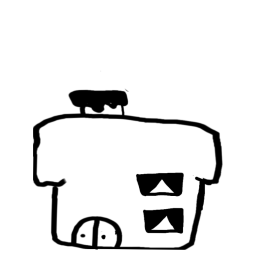bottom_placed_house: (3, 1, 260, 260)
chimney: (55, 84, 145, 129)
door: (71, 203, 128, 255)
open_window: (129, 160, 191, 204), (137, 205, 188, 240)
single_line_roof: (25, 111, 229, 191)
wall: (40, 164, 208, 256)
